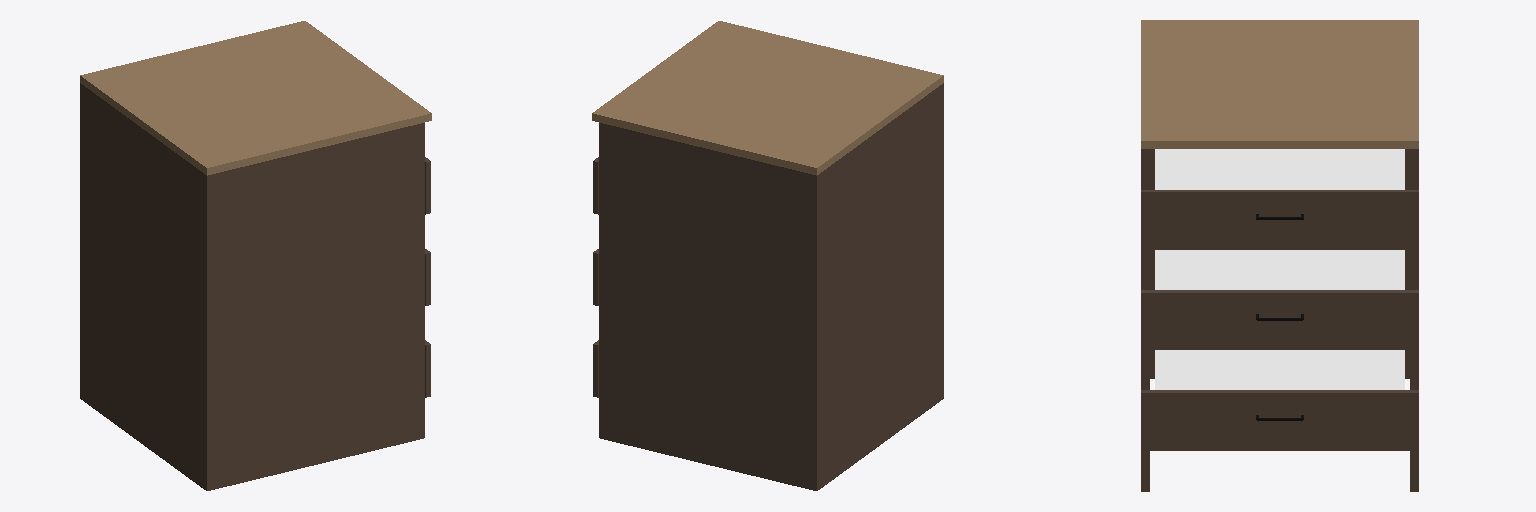
The robot description file, URDF, robot "mk_station":
<robot name="mk_station" version="1.0">
  <joint name="top_drawer_joint" type="prismatic">
    <limit lower="0" upper="0.5" effort="0.00000" velocity="0.00000"/>
    <origin rpy="0.00000 0.00000 0.00000" xyz="0.00000 0.00000 0.66800"/>
    <parent link="body"/>
    <child link="top_drawer"/>
    <axis xyz="1.00000 0.00000 0.00000"/>
  </joint>
  <joint name="middle_drawer_joint" type="prismatic">
    <limit lower="0" upper="0.5" effort="0.00000" velocity="0.00000"/>
    <origin rpy="0.00000 0.00000 0.00000" xyz="0.00000 0.00000 0.42300"/>
    <parent link="body"/>
    <child link="middle_drawer"/>
    <axis xyz="1.00000 0.00000 0.00000"/>
  </joint>
  <joint name="bottom_drawer_joint" type="prismatic">
    <limit lower="0" upper="0.5" effort="0.00000" velocity="0.00000"/>
    <origin rpy="0.00000 0.00000 0.00000" xyz="0.00000 0.00000 0.17800"/>
    <parent link="body"/>
    <child link="bottom_drawer"/>
    <axis xyz="1.00000 0.00000 0.00000"/>
  </joint>
  <link name="body">
    <collision name="body_back_collision">
      <origin rpy="0.00000 0.00000 0.00000" xyz="-0.30500 0.00000 0.42250"/>
      <geometry>
        <box size="0.02000 0.61500 0.84500"/>
      </geometry>
    </collision>
    <visual name="body_back">
      <origin rpy="0.00000 0.00000 0.00000" xyz="-0.30500 0.00000 0.42250"/>
      <material name="gray_wooden"/>
      <geometry>
        <box size="0.02000 0.61500 0.84500"/>
      </geometry>
    </visual>
    <collision name="body_left_collision">
      <origin rpy="0.00000 0.00000 0.00000" xyz="0.00000 -0.29750 0.42250"/>
      <geometry>
        <box size="0.59000 0.02000 0.84500"/>
      </geometry>
    </collision>
    <visual name="body_left">
      <origin rpy="0.00000 0.00000 0.00000" xyz="0.00000 -0.29750 0.42250"/>
      <material name="gray_wooden"/>
      <geometry>
        <box size="0.59000 0.02000 0.84500"/>
      </geometry>
    </visual>
    <collision name="body_right_collision">
      <origin rpy="0.00000 0.00000 0.00000" xyz="0.00000 0.29750 0.42250"/>
      <geometry>
        <box size="0.59000 0.02000 0.84500"/>
      </geometry>
    </collision>
    <visual name="body_right">
      <origin rpy="0.00000 0.00000 0.00000" xyz="0.00000 0.29750 0.42250"/>
      <material name="gray_wooden"/>
      <geometry>
        <box size="0.59000 0.02000 0.84500"/>
      </geometry>
    </visual>
    <collision name="tabletop_collision">
      <origin rpy="0.00000 0.00000 0.00000" xyz="0.00000 0.00000 0.85500"/>
      <geometry>
        <box size="0.63000 0.61500 0.02000"/>
      </geometry>
    </collision>
    <visual name="tabletop">
      <origin rpy="0.00000 0.00000 0.00000" xyz="0.00000 0.00000 0.85500"/>
      <material name="stone"/>
      <geometry>
        <box size="0.63000 0.61500 0.02000"/>
      </geometry>
    </visual>
  </link>
  <link name="top_drawer">
    <visual name="handle0">
      <origin rpy="0.00000 0.00000 0.00000" xyz="0.34250 0.00000 0.02"/>
      <material name="black"/>
      <geometry>
        <box size="0.005000 0.10000 0.00500"/>
      </geometry>
    </visual>
    <visual name="handle1">
      <origin rpy="0.00000 0.00000 0.00000" xyz="0.33250 -0.05000 0.02"/>
      <material name="black"/>
      <geometry>
        <box size="0.020000 0.00500 0.00500"/>
      </geometry>
    </visual>
    <visual name="handle2">
      <origin rpy="0.00000 0.00000 0.00000" xyz="0.33250 0.05000 0.02"/>
      <material name="black"/>
      <geometry>
        <box size="0.020000 0.00500 0.00500"/>
      </geometry>
    </visual>
    <collision name="drawer_front_collision">
      <origin rpy="0.00000 0.00000 0.00000" xyz="0.30500 0.00000 0.0"/>
      <geometry>
        <box size="0.015000 0.61500 0.14000"/>
      </geometry>
    </collision>
    <visual name="drawer_front">
      <origin rpy="0.00000 0.00000 0.00000" xyz="0.30500 0.00000 0.0"/>
      <material name="gray_wooden"/>
      <geometry>
        <box size="0.015000 0.61500 0.14000"/>
      </geometry>
    </visual>
    <collision name="drawer_back_collision">
      <origin rpy="0.00000 0.00000 0.00000" xyz="-0.28500 0.00000 -0.02"/>
      <geometry>
        <box size="0.02000 0.51500 0.10000"/>
      </geometry>
    </collision>
    <visual name="drawer_back">
      <origin rpy="0.00000 0.00000 0.00000" xyz="-0.28500 0.00000 -0.02"/>
      <material name="white_wooden"/>
      <geometry>
        <box size="0.02000 0.51500 0.10000"/>
      </geometry>
    </visual>
    <collision name="drawer_interior_bottom_collision">
      <origin rpy="0.00000 0.00000 0.00000" xyz="0.00000 0.00000 -0.06"/>
      <geometry>
        <box size="0.55000 0.51500 0.02000"/>
      </geometry>
    </collision>
    <visual name="drawer_interior_bottom">
      <origin rpy="0.00000 0.00000 0.00000" xyz="0.00000 0.00000 -0.06"/>
      <material name="white_wooden"/>
      <geometry>
        <box size="0.55000 0.51500 0.02000"/>
      </geometry>
    </visual>
    <collision name="drawer_interior_front_collision">
      <origin rpy="0.00000 0.00000 0.00000" xyz="0.28500 0.00000 -0.02"/>
      <geometry>
        <box size="0.02000 0.51500 0.10000"/>
      </geometry>
    </collision>
    <visual name="drawer_interior_front">
      <origin rpy="0.00000 0.00000 0.00000" xyz="0.28500 0.00000 -0.02"/>
      <material name="white_wooden"/>
      <geometry>
        <box size="0.02000 0.51500 0.10000"/>
      </geometry>
    </visual>
    <collision name="drawer_left_collision">
      <origin rpy="0.00000 0.00000 0.00000" xyz="0.00000 -0.26750 -0.02"/>
      <geometry>
        <box size="0.59000 0.02000 0.10000"/>
      </geometry>
    </collision>
    <visual name="drawer_left">
      <origin rpy="0.00000 0.00000 0.00000" xyz="0.00000 -0.26750 -0.02"/>
      <material name="white_wooden"/>
      <geometry>
        <box size="0.59000 0.02000 0.10000"/>
      </geometry>
    </visual>
    <collision name="drawer_right_collision">
      <origin rpy="0.00000 0.00000 0.00000" xyz="0.00000 0.26750 -0.02"/>
      <geometry>
        <box size="0.59000 0.02000 0.10000"/>
      </geometry>
    </collision>
    <visual name="drawer_right">
      <origin rpy="0.00000 0.00000 0.00000" xyz="0.00000 0.26750 -0.02"/>
      <material name="white_wooden"/>
      <geometry>
        <box size="0.59000 0.02000 0.10000"/>
      </geometry>
    </visual>
  </link>
  <link name="middle_drawer">
    <visual name="handle0">
      <origin rpy="0.00000 0.00000 0.00000" xyz="0.34250 0.00000 0.02"/>
      <material name="black"/>
      <geometry>
        <box size="0.005000 0.10000 0.00500"/>
      </geometry>
    </visual>
    <visual name="handle1">
      <origin rpy="0.00000 0.00000 0.00000" xyz="0.33250 -0.05000 0.02"/>
      <material name="black"/>
      <geometry>
        <box size="0.020000 0.00500 0.00500"/>
      </geometry>
    </visual>
    <visual name="handle2">
      <origin rpy="0.00000 0.00000 0.00000" xyz="0.33250 0.05000 0.02"/>
      <material name="black"/>
      <geometry>
        <box size="0.020000 0.00500 0.00500"/>
      </geometry>
    </visual>
    <collision name="drawer_front_collision">
      <origin rpy="0.00000 0.00000 0.00000" xyz="0.30500 0.00000 0.0"/>
      <geometry>
        <box size="0.015000 0.61500 0.14000"/>
      </geometry>
    </collision>
    <visual name="drawer_front">
      <origin rpy="0.00000 0.00000 0.00000" xyz="0.30500 0.00000 0.0"/>
      <material name="gray_wooden"/>
      <geometry>
        <box size="0.015000 0.61500 0.14000"/>
      </geometry>
    </visual>
    <collision name="drawer_back_collision">
      <origin rpy="0.00000 0.00000 0.00000" xyz="-0.28500 0.00000 -0.02"/>
      <geometry>
        <box size="0.02000 0.51500 0.10000"/>
      </geometry>
    </collision>
    <visual name="drawer_back">
      <origin rpy="0.00000 0.00000 0.00000" xyz="-0.28500 0.00000 -0.02"/>
      <material name="white_wooden"/>
      <geometry>
        <box size="0.02000 0.51500 0.10000"/>
      </geometry>
    </visual>
    <collision name="drawer_interior_bottom_collision">
      <origin rpy="0.00000 0.00000 0.00000" xyz="0.00000 0.00000 -0.06"/>
      <geometry>
        <box size="0.55000 0.51500 0.02000"/>
      </geometry>
    </collision>
    <visual name="drawer_interior_bottom">
      <origin rpy="0.00000 0.00000 0.00000" xyz="0.00000 0.00000 -0.06"/>
      <material name="white_wooden"/>
      <geometry>
        <box size="0.55000 0.51500 0.02000"/>
      </geometry>
    </visual>
    <collision name="drawer_interior_front_collision">
      <origin rpy="0.00000 0.00000 0.00000" xyz="0.28500 0.00000 -0.02"/>
      <geometry>
        <box size="0.02000 0.51500 0.10000"/>
      </geometry>
    </collision>
    <visual name="drawer_interior_front">
      <origin rpy="0.00000 0.00000 0.00000" xyz="0.28500 0.00000 -0.02"/>
      <material name="white_wooden"/>
      <geometry>
        <box size="0.02000 0.51500 0.10000"/>
      </geometry>
    </visual>
    <collision name="drawer_left_collision">
      <origin rpy="0.00000 0.00000 0.00000" xyz="0.00000 -0.26750 -0.02"/>
      <geometry>
        <box size="0.59000 0.02000 0.10000"/>
      </geometry>
    </collision>
    <visual name="drawer_left">
      <origin rpy="0.00000 0.00000 0.00000" xyz="0.00000 -0.26750 -0.02"/>
      <material name="white_wooden"/>
      <geometry>
        <box size="0.59000 0.02000 0.10000"/>
      </geometry>
    </visual>
    <collision name="drawer_right_collision">
      <origin rpy="0.00000 0.00000 0.00000" xyz="0.00000 0.26750 -0.02"/>
      <geometry>
        <box size="0.59000 0.02000 0.10000"/>
      </geometry>
    </collision>
    <visual name="drawer_right">
      <origin rpy="0.00000 0.00000 0.00000" xyz="0.00000 0.26750 -0.02"/>
      <material name="white_wooden"/>
      <geometry>
        <box size="0.59000 0.02000 0.10000"/>
      </geometry>
    </visual>
  </link>
  <link name="bottom_drawer">
    <visual name="handle0">
      <origin rpy="0.00000 0.00000 0.00000" xyz="0.34250 0.00000 0.02"/>
      <material name="black"/>
      <geometry>
        <box size="0.005000 0.10000 0.00500"/>
      </geometry>
    </visual>
    <visual name="handle1">
      <origin rpy="0.00000 0.00000 0.00000" xyz="0.33250 -0.05000 0.02"/>
      <material name="black"/>
      <geometry>
        <box size="0.020000 0.00500 0.00500"/>
      </geometry>
    </visual>
    <visual name="handle2">
      <origin rpy="0.00000 0.00000 0.00000" xyz="0.33250 0.05000 0.02"/>
      <material name="black"/>
      <geometry>
        <box size="0.020000 0.00500 0.00500"/>
      </geometry>
    </visual>
    <collision name="drawer_front_collision">
      <origin rpy="0.00000 0.00000 0.00000" xyz="0.30500 0.00000 0.0"/>
      <geometry>
        <box size="0.015000 0.61500 0.14000"/>
      </geometry>
    </collision>
    <visual name="drawer_front">
      <origin rpy="0.00000 0.00000 0.00000" xyz="0.30500 0.00000 0.0"/>
      <material name="gray_wooden"/>
      <geometry>
        <box size="0.015000 0.61500 0.14000"/>
      </geometry>
    </visual>
    <collision name="drawer_back_collision">
      <origin rpy="0.00000 0.00000 0.00000" xyz="-0.28500 0.00000 -0.02"/>
      <geometry>
        <box size="0.02000 0.51500 0.10000"/>
      </geometry>
    </collision>
    <visual name="drawer_back">
      <origin rpy="0.00000 0.00000 0.00000" xyz="-0.28500 0.00000 -0.02"/>
      <material name="white_wooden"/>
      <geometry>
        <box size="0.02000 0.51500 0.10000"/>
      </geometry>
    </visual>
    <collision name="drawer_interior_bottom_collision">
      <origin rpy="0.00000 0.00000 0.00000" xyz="0.00000 0.00000 -0.06"/>
      <geometry>
        <box size="0.55000 0.51500 0.02000"/>
      </geometry>
    </collision>
    <visual name="drawer_interior_bottom">
      <origin rpy="0.00000 0.00000 0.00000" xyz="0.00000 0.00000 -0.06"/>
      <material name="white_wooden"/>
      <geometry>
        <box size="0.55000 0.51500 0.02000"/>
      </geometry>
    </visual>
    <collision name="drawer_interior_front_collision">
      <origin rpy="0.00000 0.00000 0.00000" xyz="0.28500 0.00000 -0.02"/>
      <geometry>
        <box size="0.02000 0.51500 0.10000"/>
      </geometry>
    </collision>
    <visual name="drawer_interior_front">
      <origin rpy="0.00000 0.00000 0.00000" xyz="0.28500 0.00000 -0.02"/>
      <material name="white_wooden"/>
      <geometry>
        <box size="0.02000 0.51500 0.10000"/>
      </geometry>
    </visual>
    <collision name="drawer_left_collision">
      <origin rpy="0.00000 0.00000 0.00000" xyz="0.00000 -0.26750 -0.02"/>
      <geometry>
        <box size="0.59000 0.02000 0.10000"/>
      </geometry>
    </collision>
    <visual name="drawer_left">
      <origin rpy="0.00000 0.00000 0.00000" xyz="0.00000 -0.26750 -0.02"/>
      <material name="white_wooden"/>
      <geometry>
        <box size="0.59000 0.02000 0.10000"/>
      </geometry>
    </visual>
    <collision name="drawer_right_collision">
      <origin rpy="0.00000 0.00000 0.00000" xyz="0.00000 0.26750 -0.02"/>
      <geometry>
        <box size="0.59000 0.02000 0.10000"/>
      </geometry>
    </collision>
    <visual name="drawer_right">
      <origin rpy="0.00000 0.00000 0.00000" xyz="0.00000 0.26750 -0.02"/>
      <material name="white_wooden"/>
      <geometry>
        <box size="0.59000 0.02000 0.10000"/>
      </geometry>
    </visual>
  </link>
  <material name="gray_wooden">
    <color rgba="0.38824 0.32157 0.27451 1.00000"/>
  </material>
  <material name="stone">
    <color rgba="0.63529 0.52941 0.41176 1.00000"/>
  </material>
  <material name="white_wooden">
    <color rgba="1.00000 1.00000 1.00000 1.00000"/>
  </material>
  <material name="black">
    <color rgba="0.10000 0.10000 0.10000 1.00000"/>
  </material>
</robot>

--- Render facts (derived) ---
Views: 3 orthographic renders of the robot side by side, from view 1: azimuth 30°, elevation 25°; view 2: azimuth 150°, elevation 25°; view 3: azimuth 270°, elevation 25°.
Robot: mk_station — 4 links, 3 joints (3 prismatic); root link body; default pose: all joints at 0.
Links seen in each view (by area): view 1: body; view 2: body; view 3: body, bottom_drawer, top_drawer, middle_drawer.
Link boxes in pixels (x1,y1,x2,y2): body: (80, 21, 431, 490); body: (592, 21, 943, 490); body: (1141, 20, 1418, 491); bottom_drawer: (1141, 350, 1418, 450); top_drawer: (1141, 149, 1418, 249); middle_drawer: (1141, 250, 1418, 349).
Bounding box of the posed robot: 0.66 × 0.615 × 0.865 m (x, y, z).
Geometry: primitives only (box / cylinder / sphere), no mesh files.